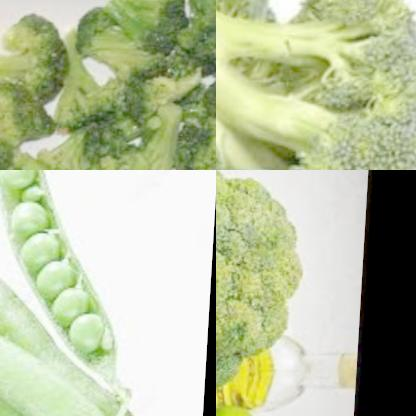beans: (0, 170, 165, 387), (0, 215, 149, 416)
broccoli: (0, 0, 216, 170), (216, 0, 416, 170), (216, 170, 311, 386)
